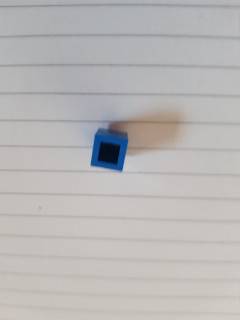1x1 blue: (88, 126, 130, 174)
